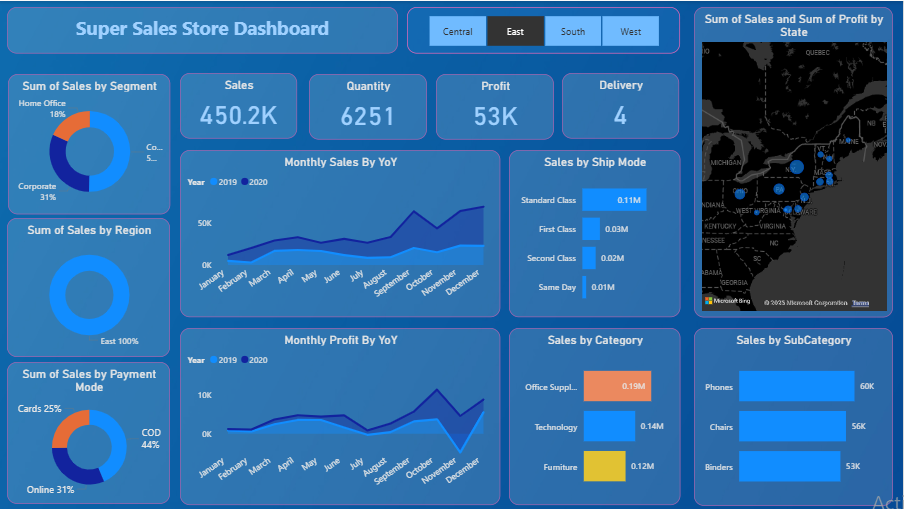

The page's visual inventory and layout, read from the dashboard file:
{"tool":"powerbi","page":{"name":"Dashboard","canvas":[1280,720],"ordinal":0},"visuals":[{"type":"clusteredBarChart","title":"Sales by Category","fields":{"Category":["SuperStore_Sales_Dataset.Category"],"Y":["Sum(SuperStore_Sales_Dataset.Sales)"]},"box":[722.9,462.9,242.9,251.4],"z":0},{"type":"clusteredBarChart","title":"Sales by SubCategory","fields":{"Category":["SuperStore_Sales_Dataset.Sub-Category"],"Y":["Sum(SuperStore_Sales_Dataset.Sales)"]},"box":[985,463.3,281.7,251.7],"z":1000},{"type":"clusteredBarChart","title":"Sales by Ship Mode","fields":{"Category":["SuperStore_Sales_Dataset.Ship Mode"],"Y":["Sum(SuperStore_Sales_Dataset.Sales)"]},"box":[722.9,211.4,242.9,237.1],"z":2000},{"type":"stackedAreaChart","title":"Monthly Sales By YoY","fields":{"Y":["Sum(SuperStore_Sales_Dataset.Sales)"],"Category":["SuperStore_Sales_Dataset.Order Date.Variation.Date Hierarchy.Month","SuperStore_Sales_Dataset.Order Date.Variation.Date Hierarchy.Day"],"Series":["SuperStore_Sales_Dataset.Order Date.Variation.Date Hierarchy.Year"]},"box":[257.1,211.4,454.3,237.1],"z":3000},{"type":"stackedAreaChart","title":"Monthly Profit By YoY","fields":{"Category":["SuperStore_Sales_Dataset.Order Date.Variation.Date Hierarchy.Month","SuperStore_Sales_Dataset.Order Date.Variation.Date Hierarchy.Day"],"Series":["SuperStore_Sales_Dataset.Order Date.Variation.Date Hierarchy.Year"],"Y":["Sum(SuperStore_Sales_Dataset.Profit)"]},"box":[257.1,462.9,454.3,251.4],"z":4000},{"type":"map","fields":{"Category":["SuperStore_Sales_Dataset.State"],"Size":["Sum(SuperStore_Sales_Dataset.Sales)"]},"box":[985,8.3,281.7,440],"z":5000},{"type":"donutChart","fields":{"Category":["SuperStore_Sales_Dataset.Region"],"Y":["Sum(SuperStore_Sales_Dataset.Sales)"]},"box":[11.4,307.1,231.4,197.1],"z":5001},{"type":"donutChart","fields":{"Category":["SuperStore_Sales_Dataset.Payment Mode"],"Y":["Sum(SuperStore_Sales_Dataset.Sales)"]},"box":[11.4,511.4,231.4,201.4],"z":5002},{"type":"slicer","fields":{"Values":["SuperStore_Sales_Dataset.Region"]},"box":[578.6,8.6,387.1,65.7],"z":5003},{"type":"textbox","box":[11.4,8.6,554.3,65.7],"z":5004},{"type":"card","title":"Sales","fields":{"Values":["Sum(SuperStore_Sales_Dataset.Sales)"]},"box":[257.1,101.4,165.7,92.9],"z":5005},{"type":"card","title":"Quantity","fields":{"Values":["Sum(SuperStore_Sales_Dataset.Quantity)"]},"box":[440,102.9,167.1,92.9],"z":5006},{"type":"card","title":"Profit","fields":{"Values":["Sum(SuperStore_Sales_Dataset.Profit)"]},"box":[620,102.9,167.1,92.9],"z":5007},{"type":"card","title":"Delivery","fields":{"Values":["Avg(SuperStore_Sales_Dataset.AvgDelivery)"]},"box":[798.6,101.4,165.7,92.9],"z":5008},{"type":"donutChart","fields":{"Category":["SuperStore_Sales_Dataset.Segment"],"Y":["Sum(SuperStore_Sales_Dataset.Sales)"]},"box":[12.9,102.9,230,198.6],"z":5009}]}

Visuals, with their boxes in screenshot pixels (x1, y1, x2, y2), scaled from the page's 1280x720 canvas onto the 904x509 screenshot:
"Sales by Category" clusteredBarChart: 511 327 682 505
"Sales by SubCategory" clusteredBarChart: 696 328 895 505
"Sales by Ship Mode" clusteredBarChart: 511 149 682 317
"Monthly Sales By YoY" stackedAreaChart: 182 149 502 317
"Monthly Profit By YoY" stackedAreaChart: 182 327 502 505
map - SuperStore_Sales_Dataset.State x Sum(SuperStore_Sales_Dataset.Sales): 696 6 895 317
donutChart - SuperStore_Sales_Dataset.Region x Sum(SuperStore_Sales_Dataset.Sales): 8 217 171 356
donutChart - SuperStore_Sales_Dataset.Payment Mode x Sum(SuperStore_Sales_Dataset.Sales): 8 362 171 504
slicer - SuperStore_Sales_Dataset.Region: 409 6 682 53
textbox: 8 6 400 53
"Sales" card: 182 72 299 137
"Quantity" card: 311 73 429 138
"Profit" card: 438 73 556 138
"Delivery" card: 564 72 681 137
donutChart - SuperStore_Sales_Dataset.Segment x Sum(SuperStore_Sales_Dataset.Sales): 9 73 172 213
